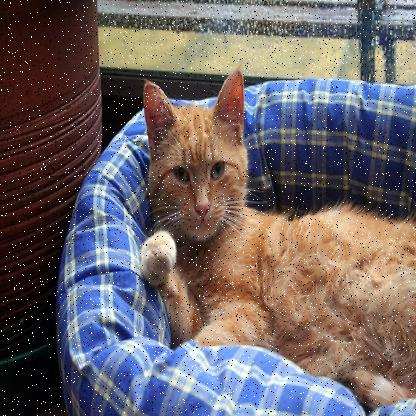cat: (136, 64, 415, 404)
